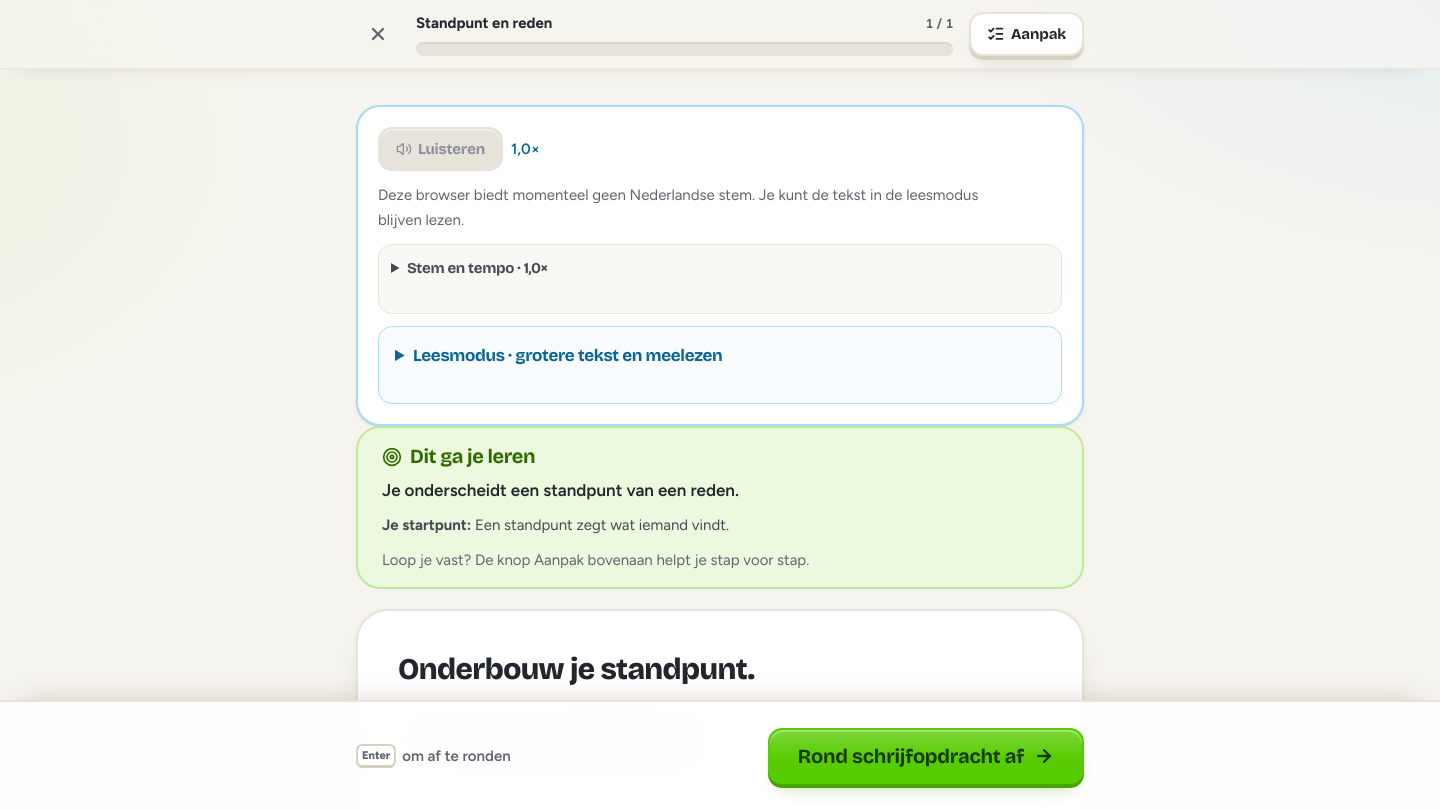
it: begeleiding in de lesplayer › rondt een zelfgecontroleerde schrijfopdracht af zonder een inhoudelijk oordeel of score
Click the button "Rond schrijfopdracht af" at [926, 756], box left=768, top=728, right=1084, bottom=784
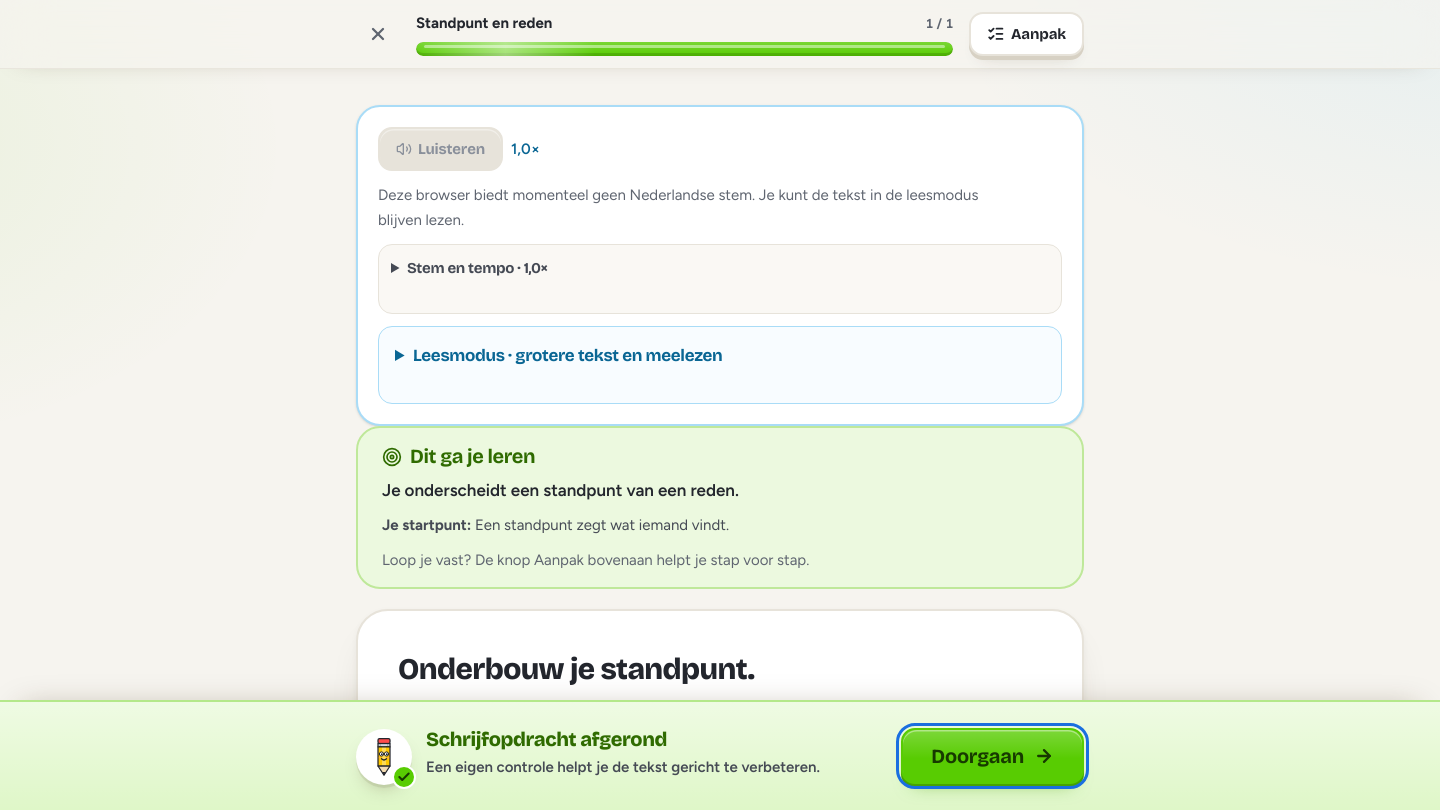
Expected: the message that starts with "Schrijfopdracht afgerond" does not show "Goed.", left=356, top=727, right=877, bottom=785
Result: the message that starts with "Schrijfopdracht afgerond" is shown at left=426, top=727, right=667, bottom=751
Click the button "Doorgaan" at [993, 756], box left=901, top=728, right=1084, bottom=784
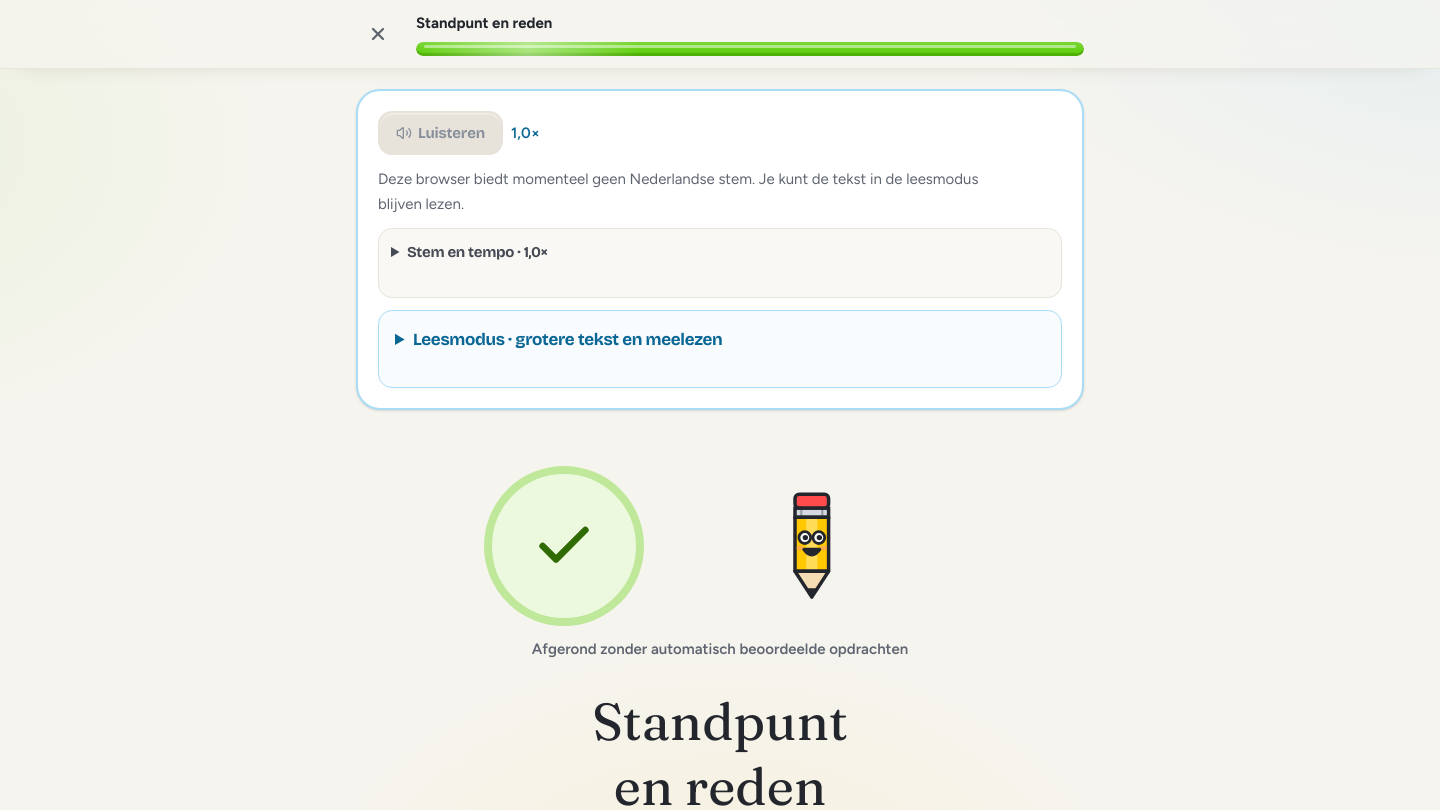
Result: the text "Afgerond zonder automatisch beoordeelde opdrachten" is shown at left=532, top=640, right=908, bottom=658
